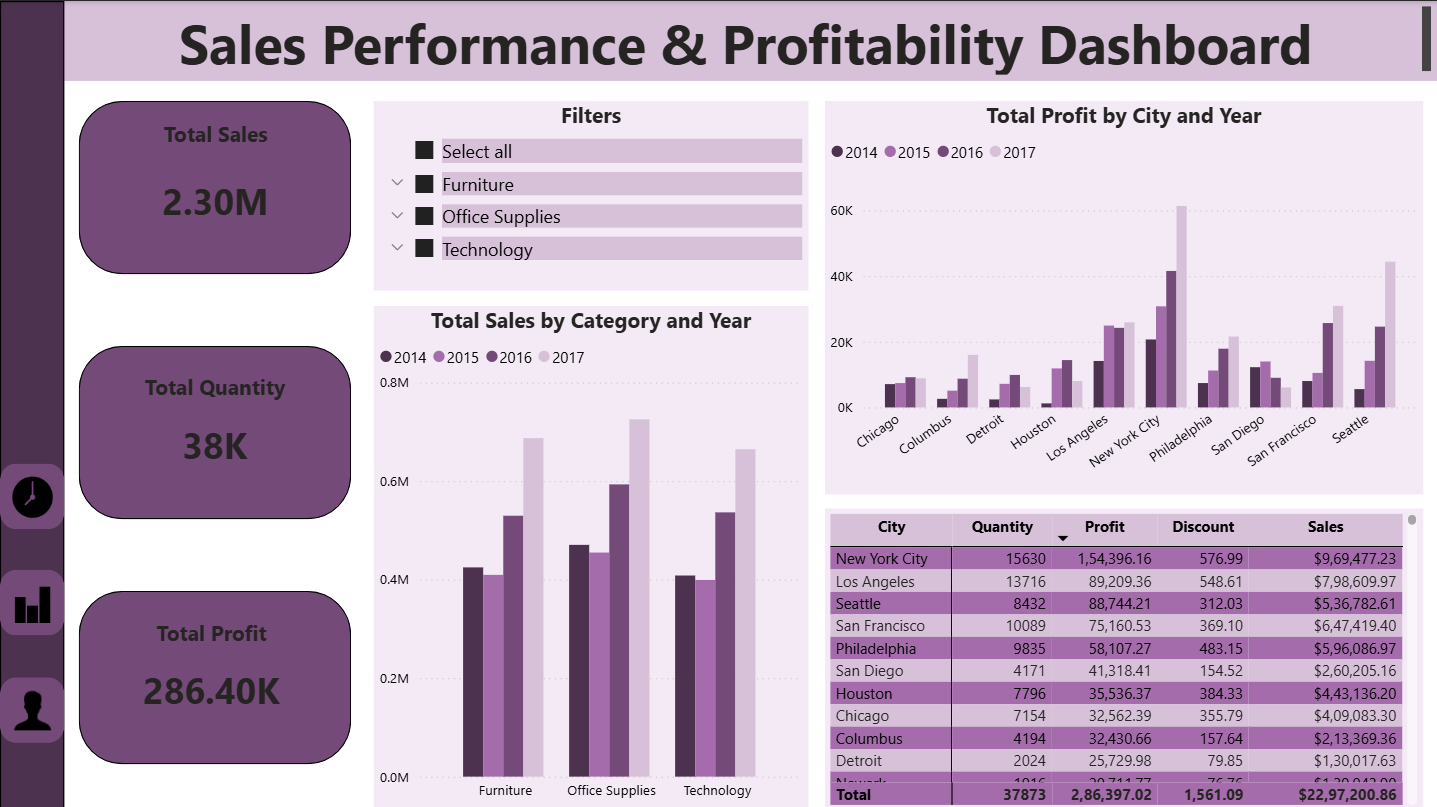

This screenshot's page, from the dashboard's own definition file:
{"tool":"powerbi","page":{"name":"Sales Overview","canvas":[1280,720],"ordinal":0},"visuals":[{"type":"slicer","title":"Filters","fields":{"Values":["Orders$FilterDatabase.Category","Orders$FilterDatabase.Sub-Category","Orders$FilterDatabase.Order Date","Orders$FilterDatabase.Region"]},"box":[333.4,89.6,386.9,169.2],"z":0},{"type":"shape","box":[0,506.9,57.2,58.5],"z":0,"group":"g2"},{"type":"clusteredColumnChart","fields":{"Category":["Orders$FilterDatabase.Category"],"Y":["Orders.Total Sales"],"Series":["Orders$FilterDatabase.Order Date.Variation.Date Hierarchy.Year"]},"box":[333.4,271.2,386.9,449.1],"z":1000},{"type":"image","box":[7.5,519.3,42.3,34.8],"z":1000,"group":"g2"},{"type":"clusteredColumnChart","fields":{"Category":["Orders$FilterDatabase.City"],"Y":["Orders.Total Profit"],"Series":["Orders$FilterDatabase.Order Date.Variation.Date Hierarchy.Year"]},"box":[735.2,89.6,532.4,350.8],"z":2000},{"type":"pivotTable","fields":{"Rows":["Orders$FilterDatabase.City"],"Values":["Sum(Orders.Quantity)","Sum(Orders.Profit)","Sum(Orders.Discount)","Sum(Orders.Sales)"]},"box":[735.2,451.6,532.4,268.7],"z":3000},{"type":"shape","box":[0,0,57.2,720.3],"z":4000,"group":"g4"},{"type":"shape","box":[69.7,89.6,242.6,154.3],"z":5000},{"type":"shape","box":[69.7,525,242.6,154.3],"z":6000},{"type":"shape","box":[69.7,307.3,242.6,154.3],"z":7000},{"type":"textbox","box":[57.2,0,1222.8,70.9],"z":8000},{"type":"card","title":"Total Sales","fields":{"Values":["Orders.Total Sales"]},"box":[90.8,105.7,201.5,121.9],"z":9000},{"type":"card","title":"Total Quantity","fields":{"Values":["Orders.Total Quantity"]},"box":[85.8,330.9,211.5,107],"z":10000},{"type":"card","title":"Total Profit","fields":{"Values":["Orders.Total Profit"]},"box":[85.8,549.8,205.3,103.2],"z":11000},{"type":"group","id":"g1","title":"Group 1","box":[0,411.8,57.2,58.5],"z":12000,"group":"g4"},{"type":"shape","box":[0,411.8,57.2,58.5],"z":12000,"group":"g1"},{"type":"shape","box":[0,602.1,57.2,58.5],"z":12000,"group":"g3"},{"type":"group","id":"g2","title":"Group 2","box":[0,506.9,57.2,58.5],"z":13000,"group":"g4"},{"type":"group","id":"g3","title":"Group 3","box":[0,602.1,57.2,58.5],"z":14000,"group":"g4"},{"type":"group","id":"g4","title":"Group 4","box":[0,0,57.2,720.3],"z":14001},{"type":"image","box":[7.5,421.8,42.3,39.8],"z":14001,"group":"g1"},{"type":"image","box":[6.2,607.1,43.5,51],"z":14003,"group":"g3"}]}

Visuals, with their boxes in screenshot pixels (x1, y1, x2, y2), scaled from the page's 1280x720 canvas onto the 1437x807 screenshot:
"Filters" slicer: <region>374, 100, 809, 290</region>
shape: <region>0, 568, 64, 634</region>
clusteredColumnChart - Orders$FilterDatabase.Category x Orders.Total Sales: <region>374, 304, 809, 806</region>
image: <region>8, 582, 56, 621</region>
clusteredColumnChart - Orders$FilterDatabase.City x Orders.Total Profit: <region>825, 100, 1423, 494</region>
pivotTable - Orders$FilterDatabase.City x Sum(Orders.Quantity): <region>825, 506, 1423, 806</region>
shape: <region>0, 0, 64, 806</region>
shape: <region>78, 100, 351, 273</region>
shape: <region>78, 588, 351, 761</region>
shape: <region>78, 344, 351, 517</region>
textbox: <region>64, 0, 1436, 79</region>
"Total Sales" card: <region>102, 118, 328, 255</region>
"Total Quantity" card: <region>96, 371, 334, 491</region>
"Total Profit" card: <region>96, 616, 327, 732</region>
"Group 1" group: <region>0, 462, 64, 527</region>
shape: <region>0, 462, 64, 527</region>
shape: <region>0, 675, 64, 740</region>
"Group 2" group: <region>0, 568, 64, 634</region>
"Group 3" group: <region>0, 675, 64, 740</region>
"Group 4" group: <region>0, 0, 64, 806</region>
image: <region>8, 473, 56, 517</region>
image: <region>7, 680, 56, 738</region>
